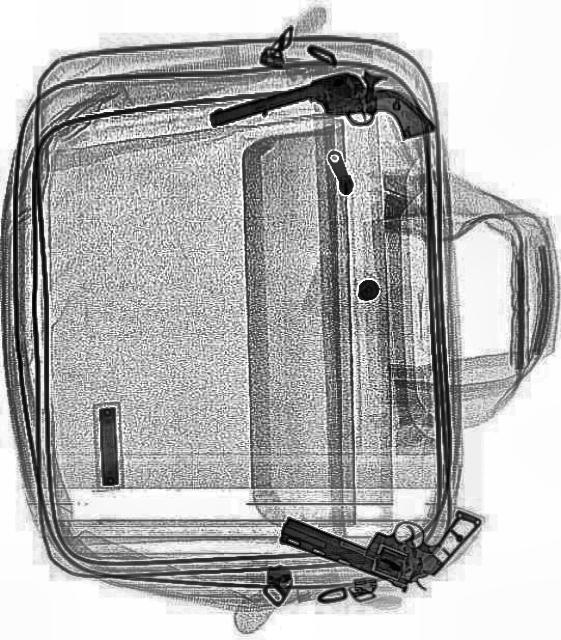Gun: (205, 48, 436, 188), (275, 452, 482, 608)
